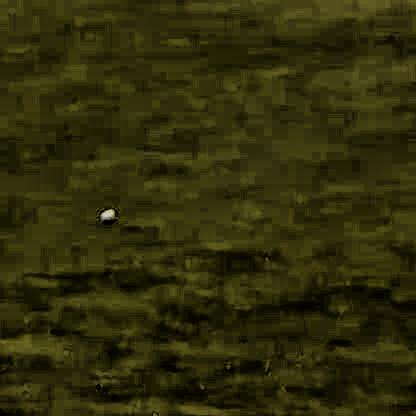golfball: (97, 205, 113, 222)
